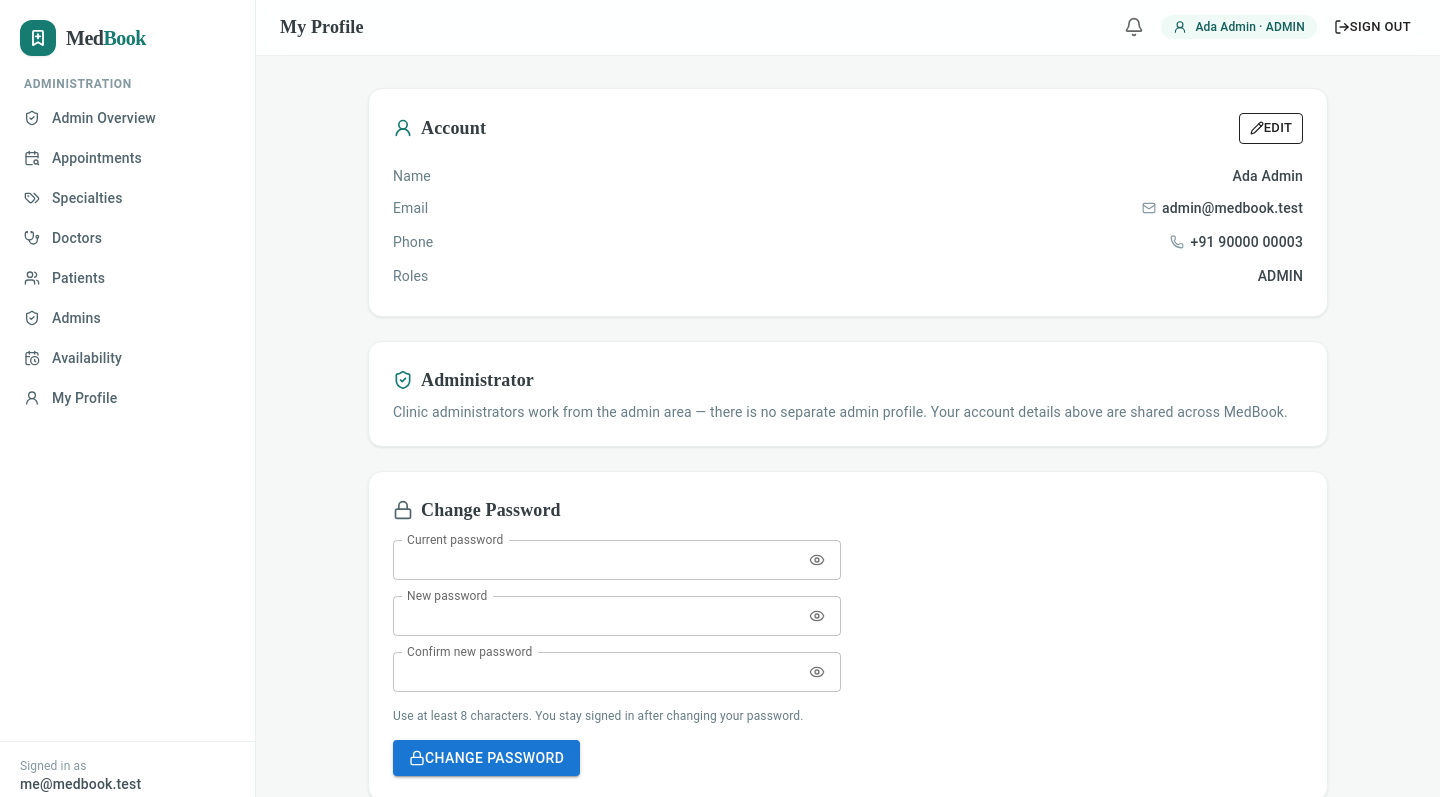
Test: ProfilePage — account editing › enters edit mode, validates, and saves with a toast
Click the button "Edit". click: coordinates (1271, 128)
box: [1239, 113, 1303, 144]
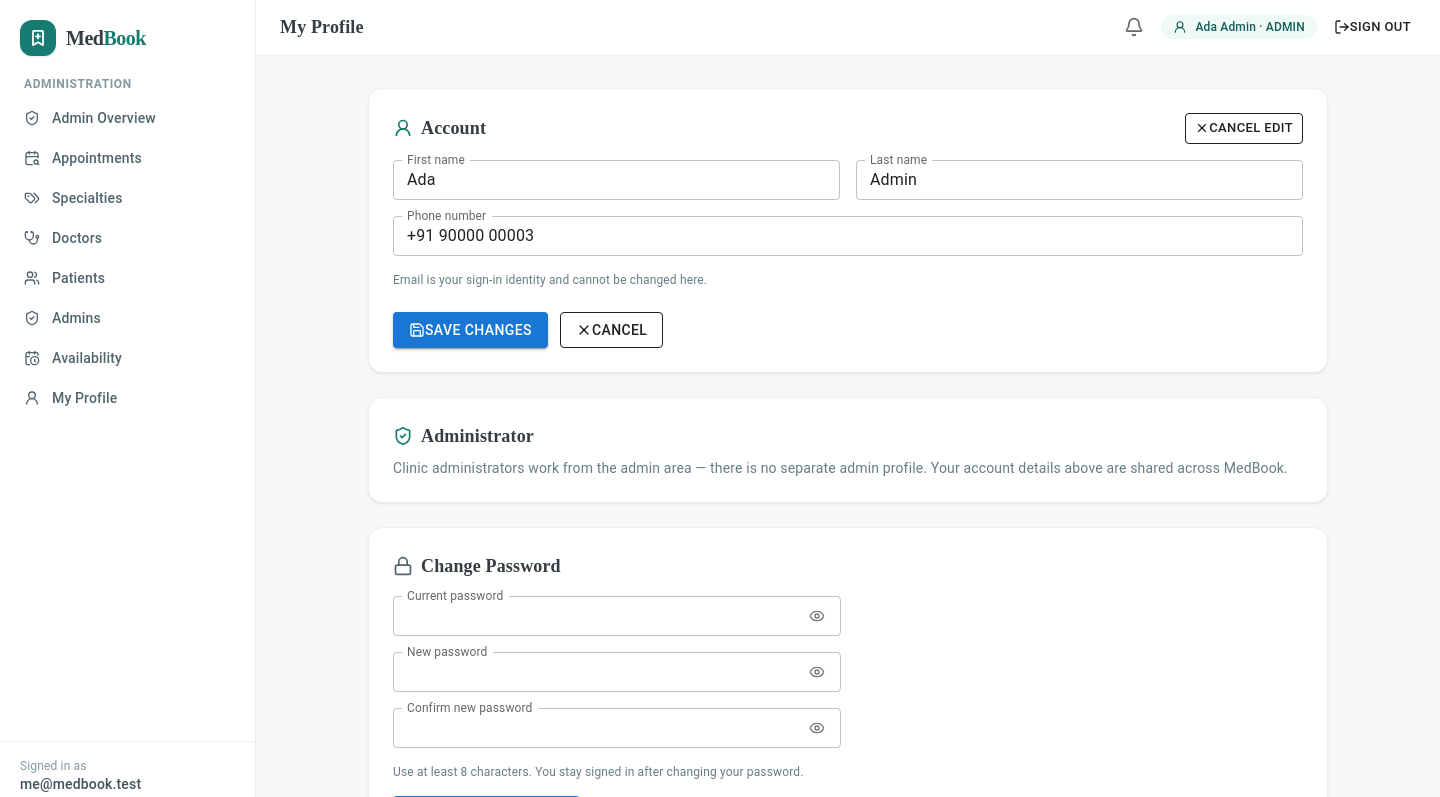
Check: the field labelled "First name" holds "Ada", box [393, 160, 840, 200]
Replace the text in the field labelled "Phone number" with "not a phone". click: coordinates (848, 236)
box: [393, 216, 1303, 256]
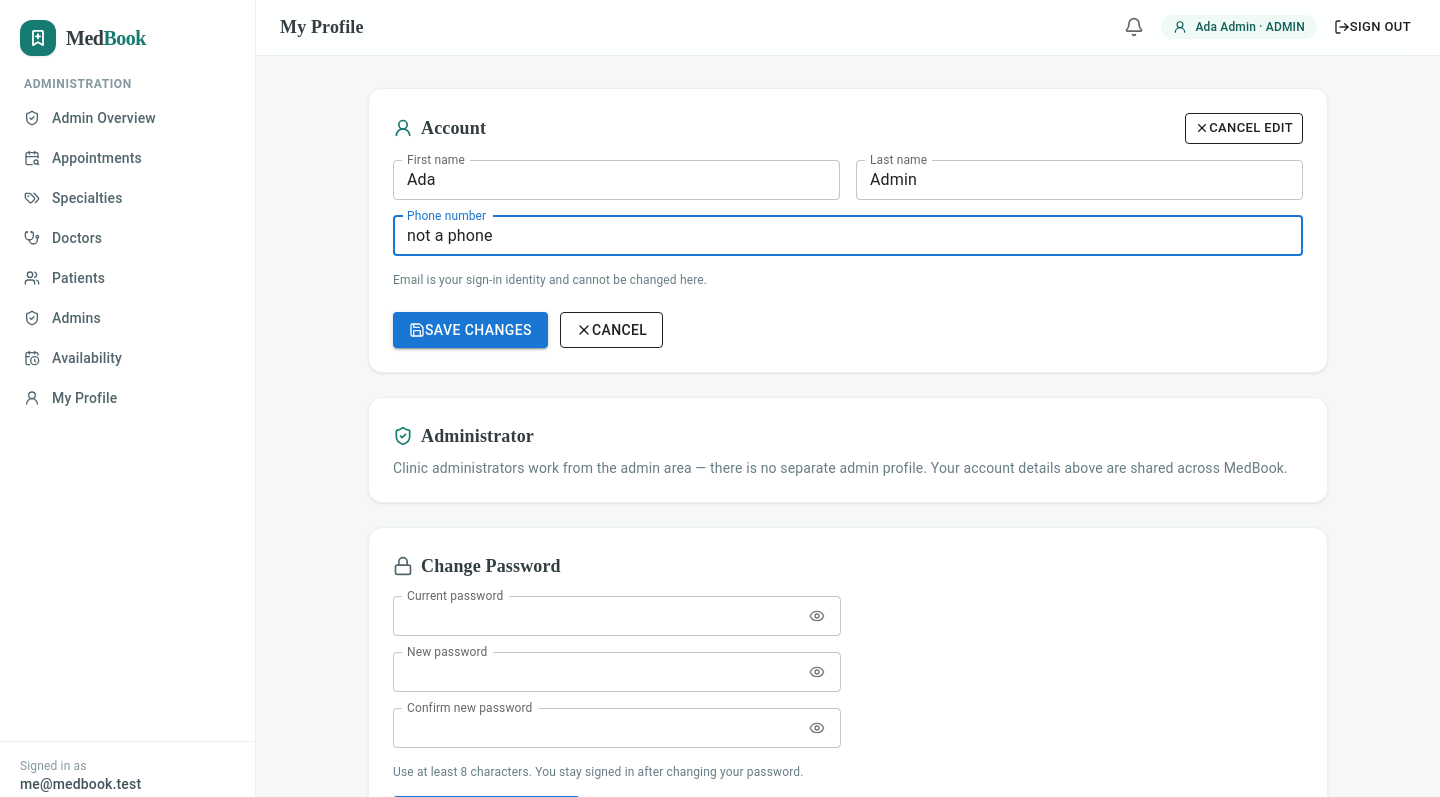
Click the button "Save Changes". click: coordinates (470, 330)
box: [393, 312, 548, 348]
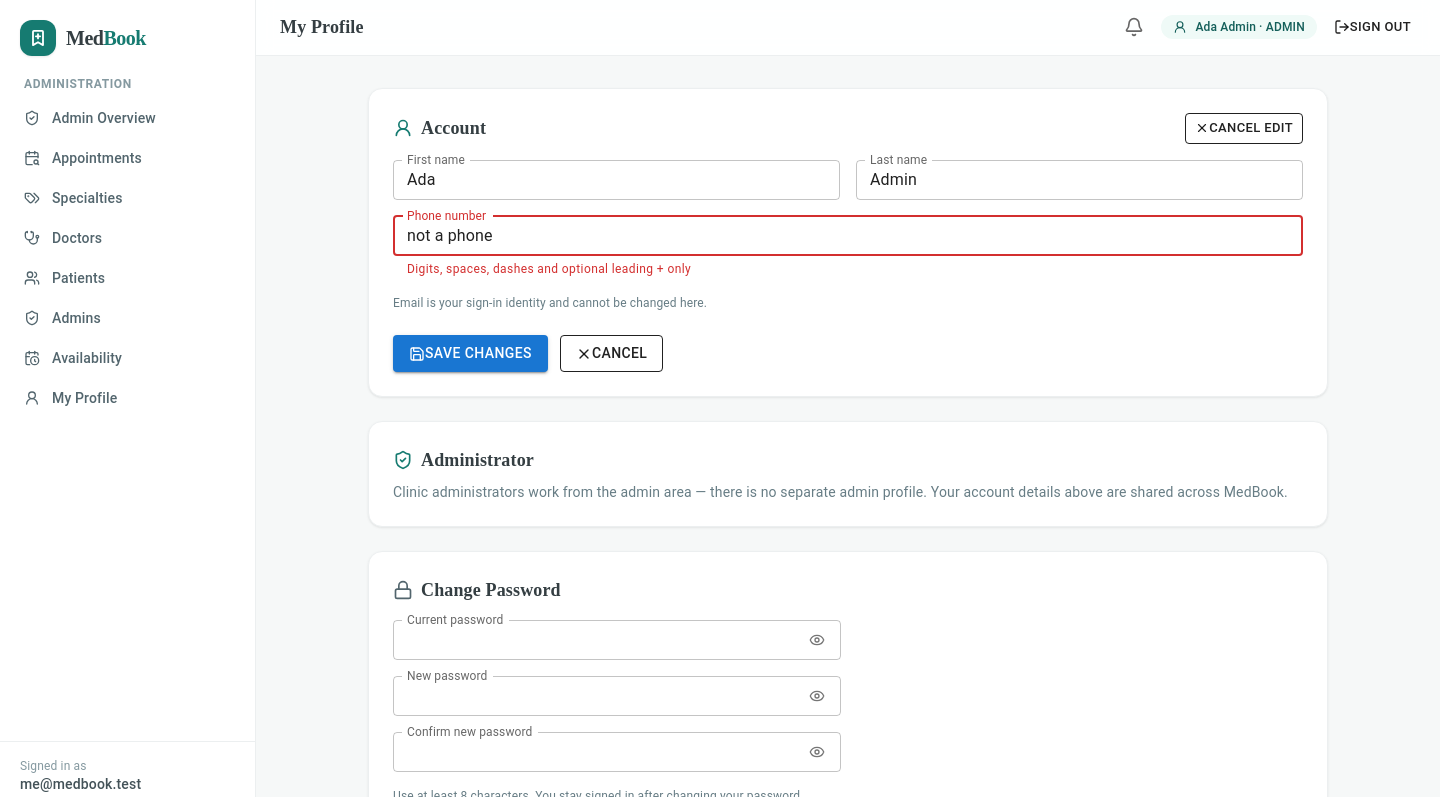
Check: the text "Digits, spaces, dashes and optional leading + only" is shown, box [407, 262, 691, 276]
Replace the text in the field labelled "Phone number" with "+91 90000 12345". click: coordinates (848, 236)
box: [393, 216, 1303, 256]
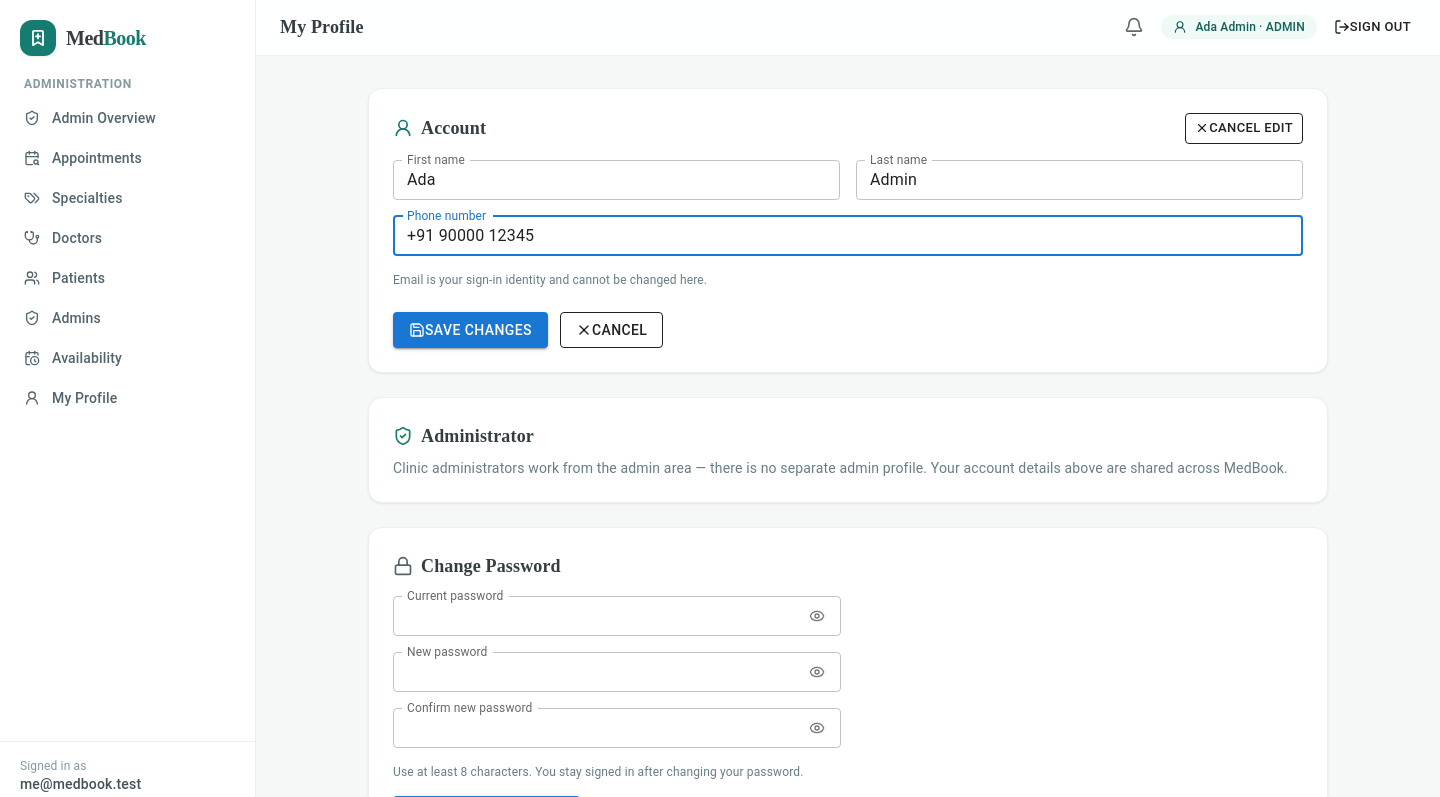
Click the button "Save Changes". click: coordinates (470, 330)
box: [393, 312, 548, 348]
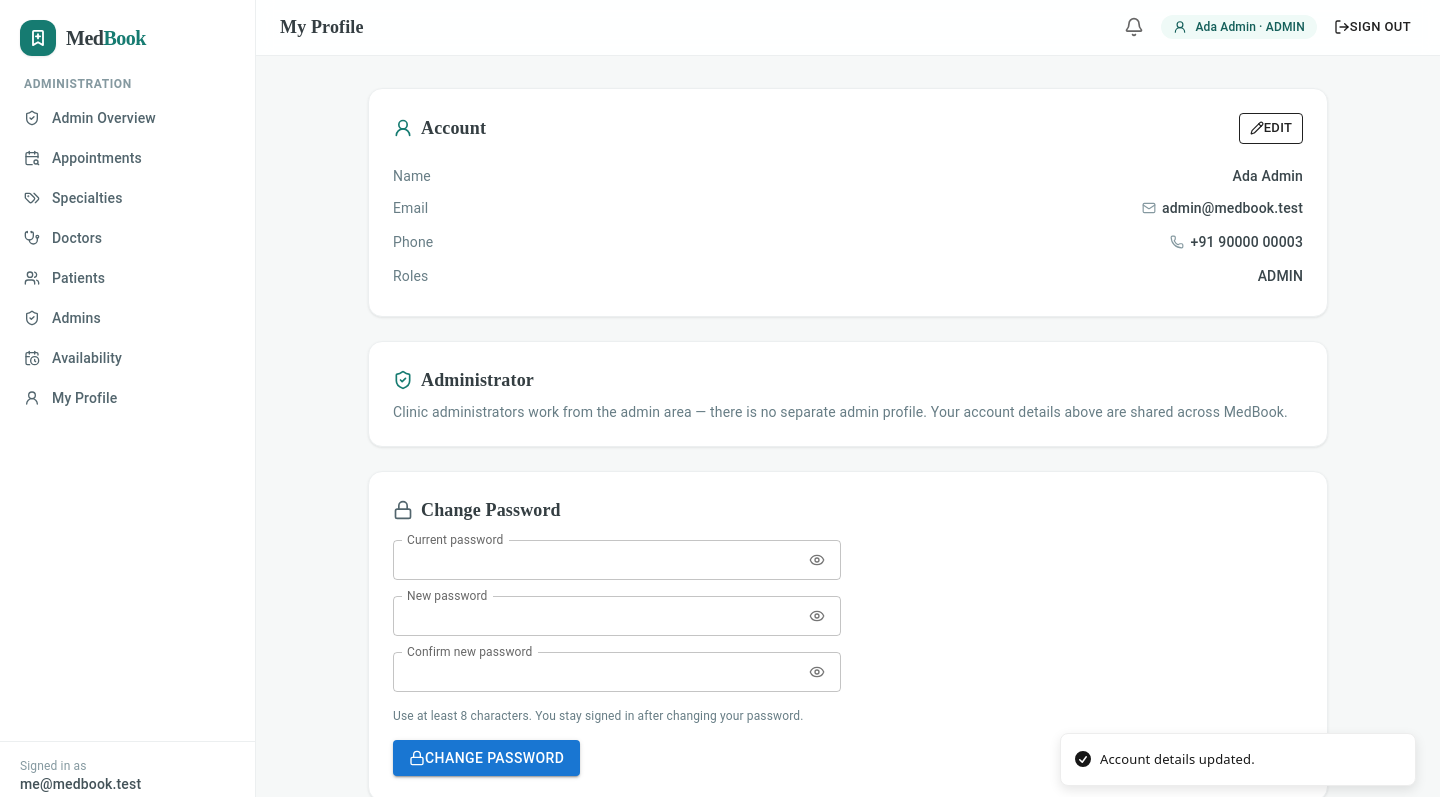
Check: the text "Account details updated." is shown, box [1100, 750, 1255, 769]
